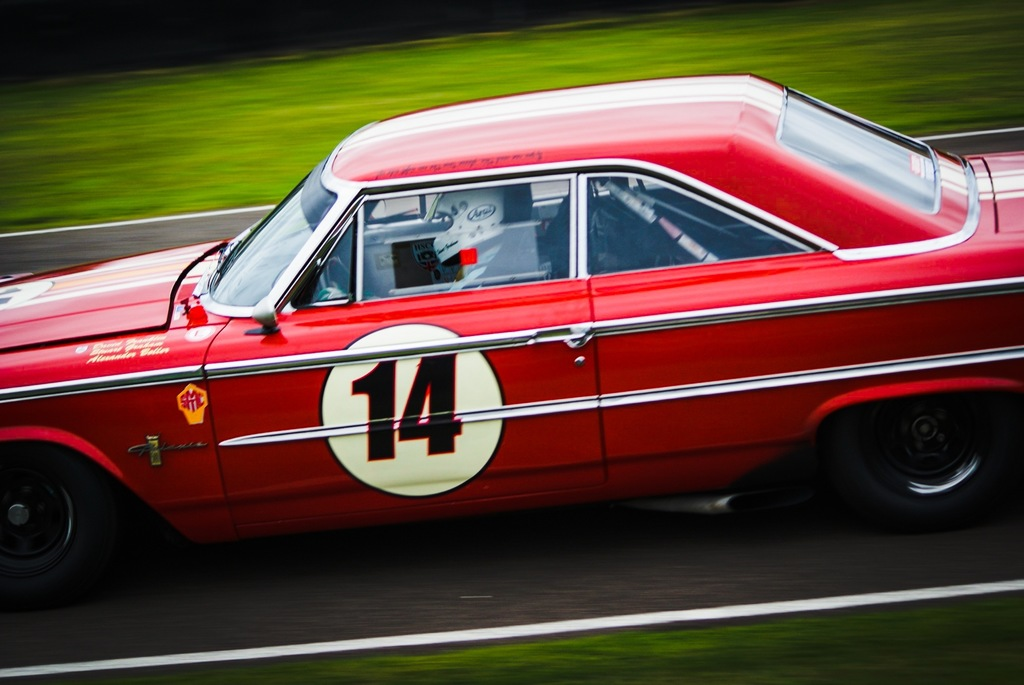Car: (0, 66, 1023, 609)
